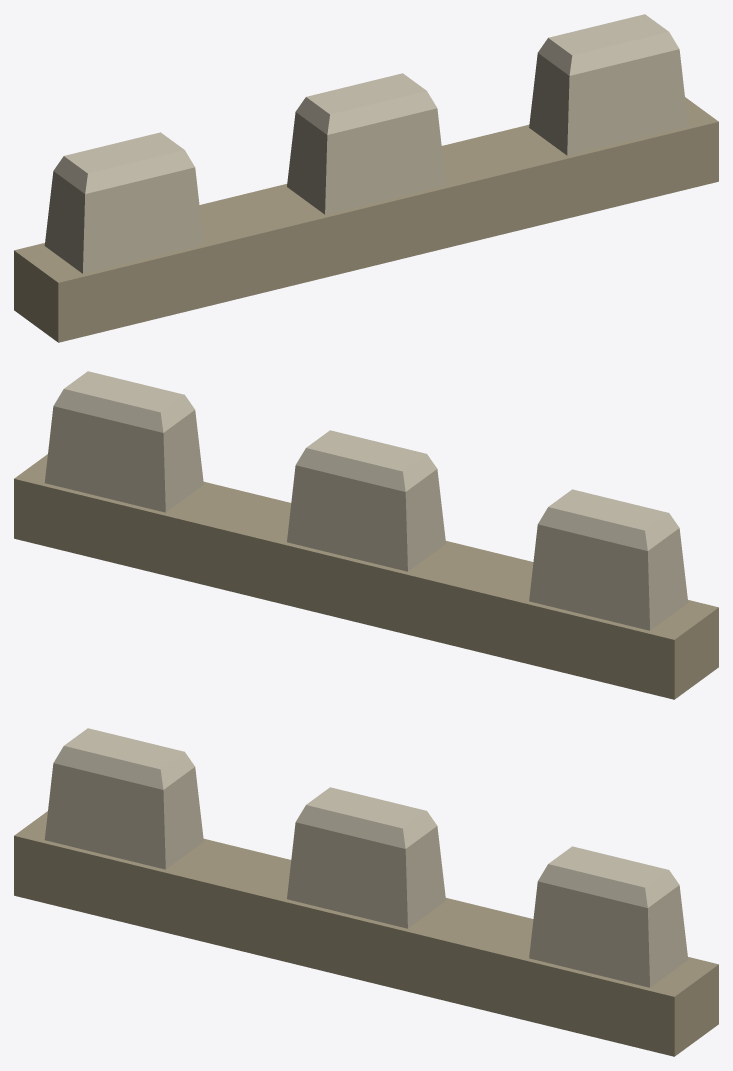
File: wall_crenel.glb
The picture shows the model from 3 angles, top to bottom: view 1: azimuth 30°, elevation 25°; view 2: azimuth 150°, elevation 25°; view 3: azimuth 330°, elevation 25°; orthographic projection.
Visible parts, largest first — view 1: wall_crenel; view 2: wall_crenel; view 3: wall_crenel.
Part boxes in pixels (x1,y1,x2,y2): wall_crenel: (14,14,718,342); wall_crenel: (14,371,718,699); wall_crenel: (14,728,718,1056).
Bounding box in the file's own units: 6 × 1.32 × 0.7.
